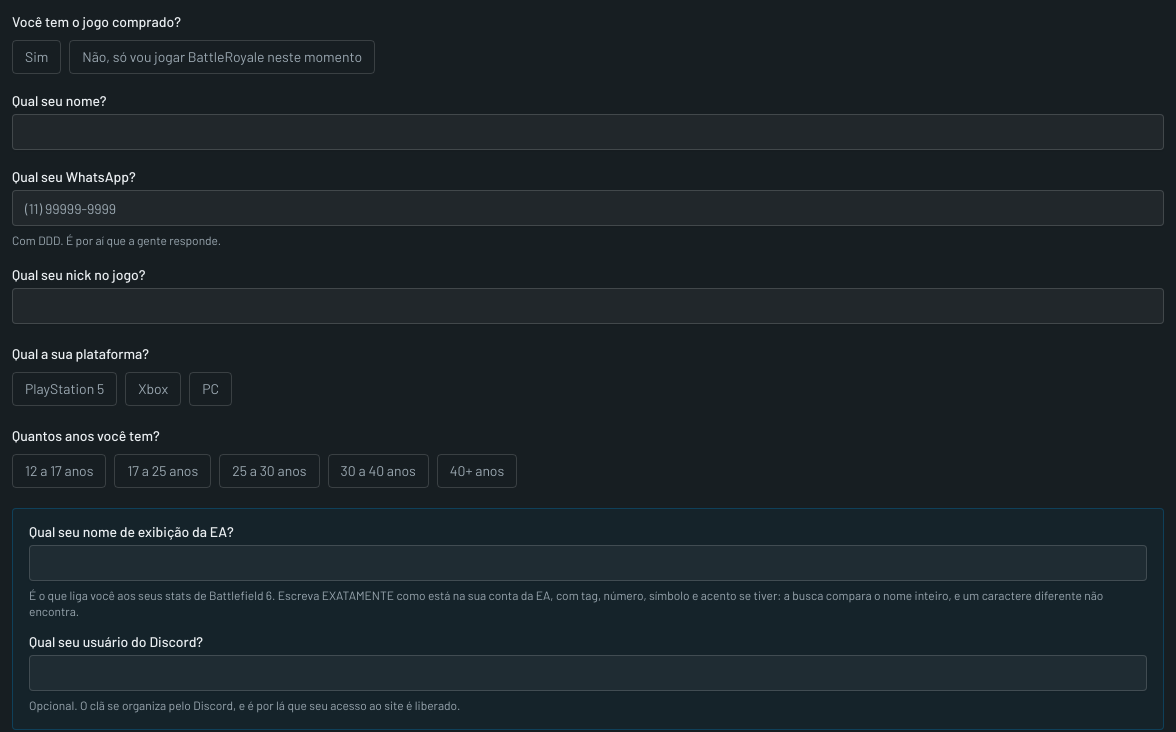
Test case: RecruitForm › masks the WhatsApp as it is typed
The width and height of the screenshot is (1176, 732).
Type "11999998888" into the field labelled "Qual seu WhatsApp?". click: (588, 208)
box: [12,190,1164,226]
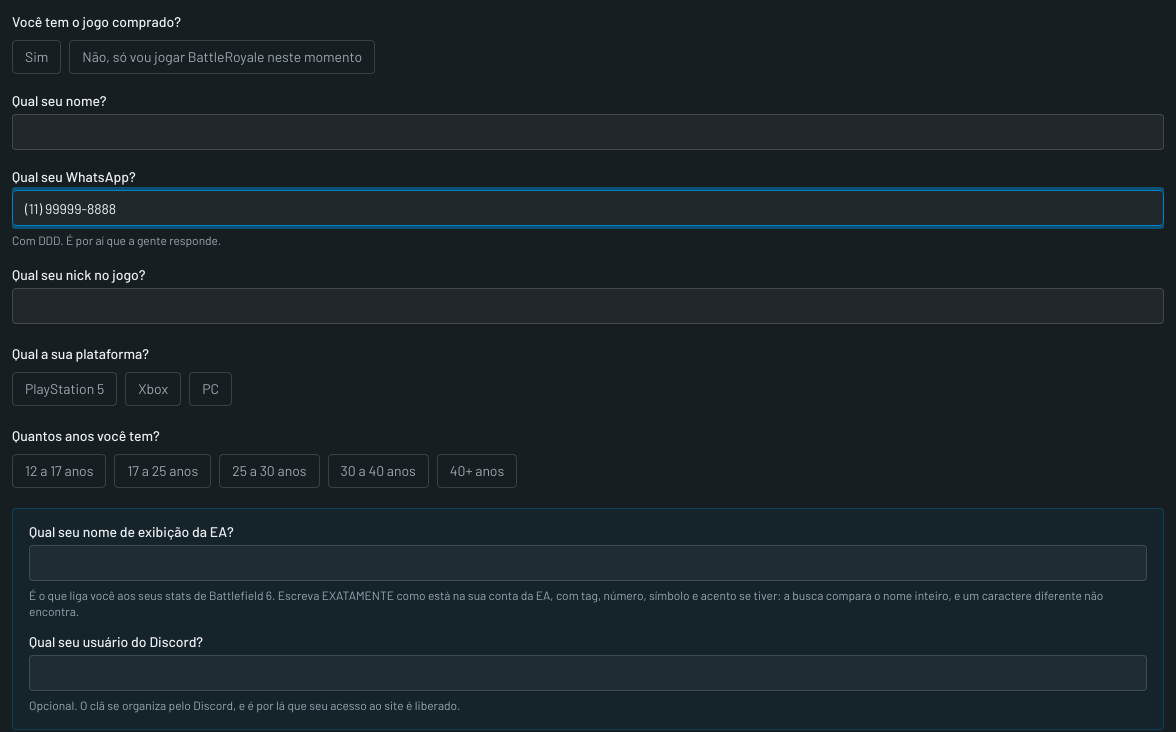
Result: the field labelled "Qual seu WhatsApp?" holds "(11) 99999-8888" at [12,190,1164,226]
